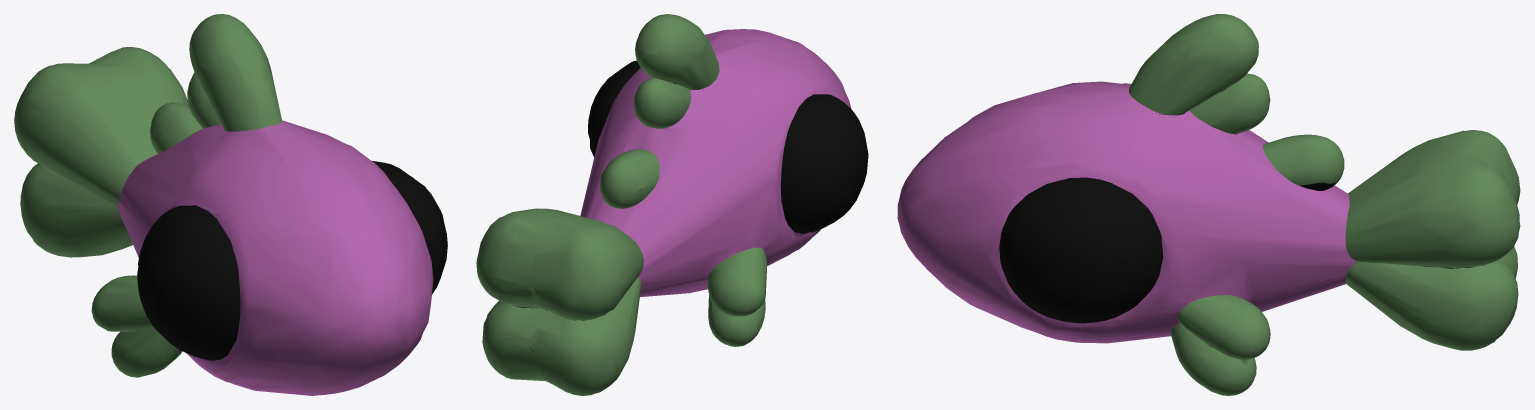
Rendered from allient_fish.glb.
3 views of the same model, side by side, from view 1: azimuth 30°, elevation 25°; view 2: azimuth 150°, elevation 25°; view 3: azimuth 270°, elevation 25° (orthographic). The views are drawn at different scales.
Parts seen in each view (by area): view 1: model; view 2: model; view 3: model.
Part boxes in pixels (x1=…): model: x1=14, y1=14, x2=447, y2=395; model: x1=476, y1=14, x2=868, y2=395; model: x1=897, y1=14, x2=1520, y2=395.
Size of the model in its own units: 0.9536 by 1.1 by 1.83.
Materials: 1 (1 with a texture image).
